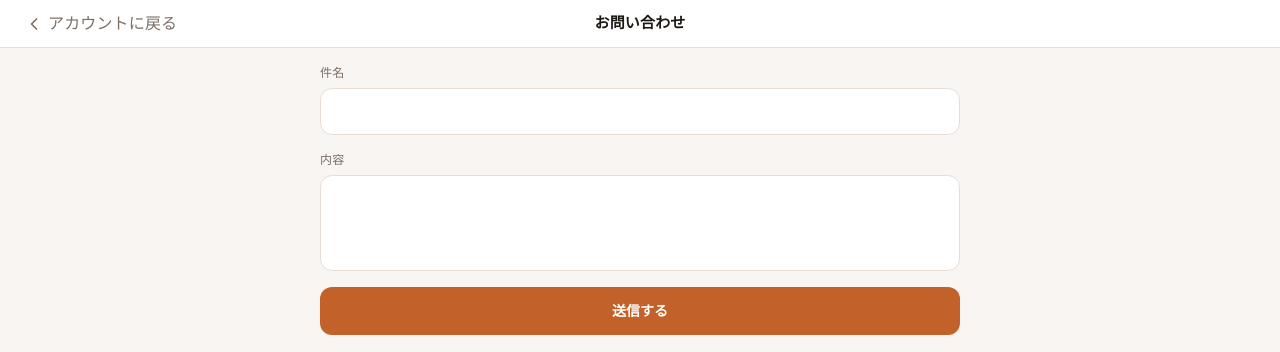
Test: ContactSupportPage › お問い合わせフォームを表示し、成功時は完了状態を表示する
Type "お問い合わせ件名" into the field labelled "件名". click: [640, 112]
box: [320,88,960,135]
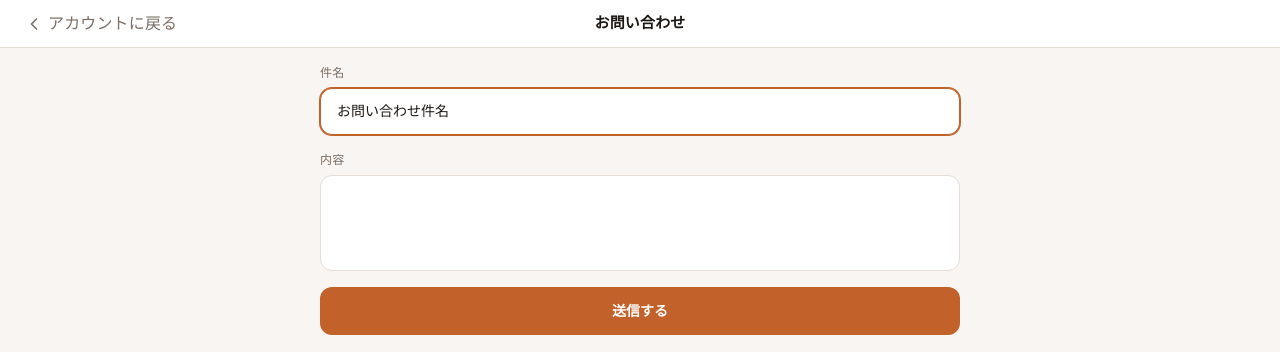
Type "お問い合わせ内容" into the text box labelled "内容". click: [640, 223]
box: [320,175,960,271]
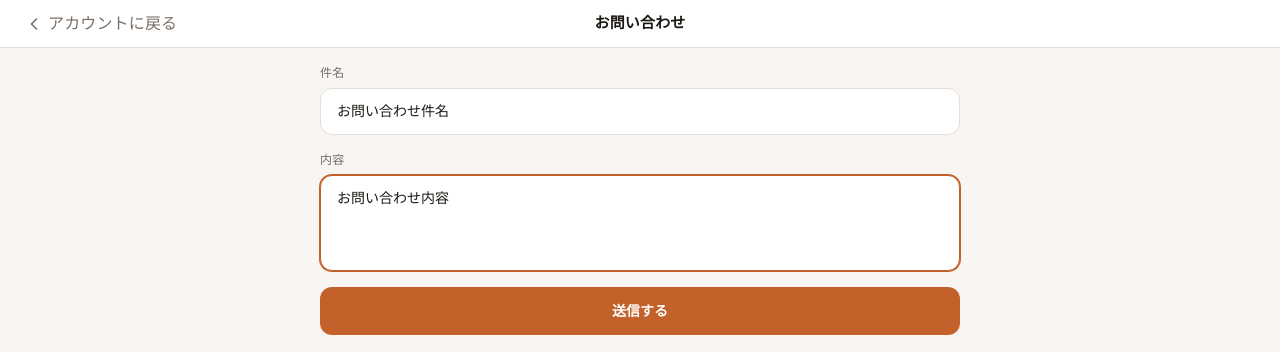
Click the button "送信する". click: [640, 311]
box: [320,287,960,335]
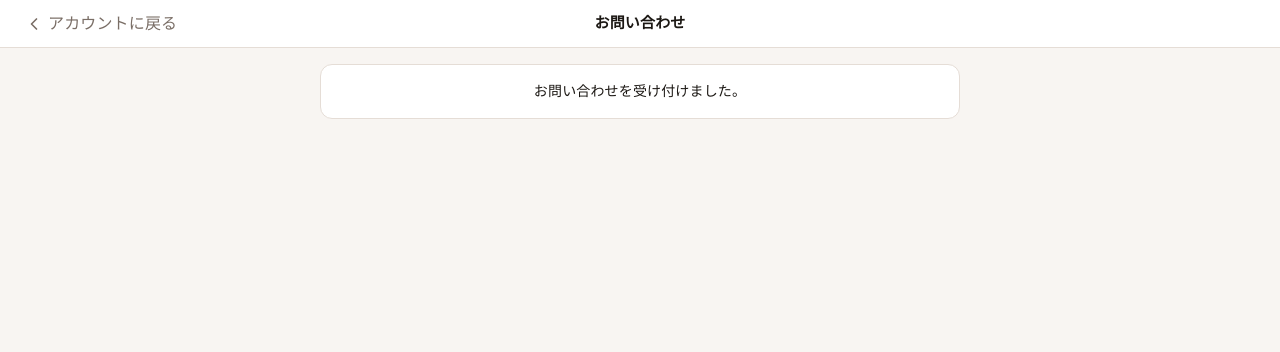
Expected: the message reads "お問い合わせを受け付けました。", [534,83,746,99]
